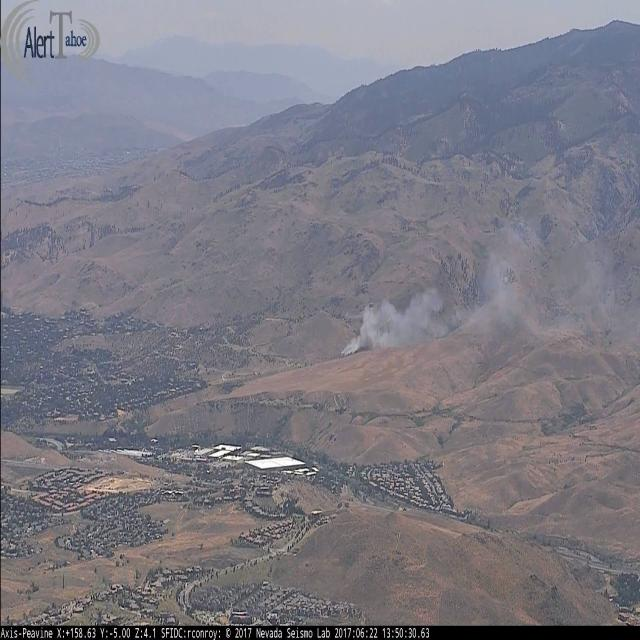smoke: (338, 282, 446, 362)
